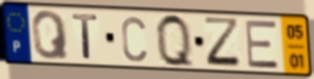C: (120, 14, 149, 64)
E: (243, 19, 281, 71)
Q: (154, 11, 197, 71), (30, 9, 71, 61)
T: (70, 12, 101, 62)
Z: (202, 16, 244, 70)
